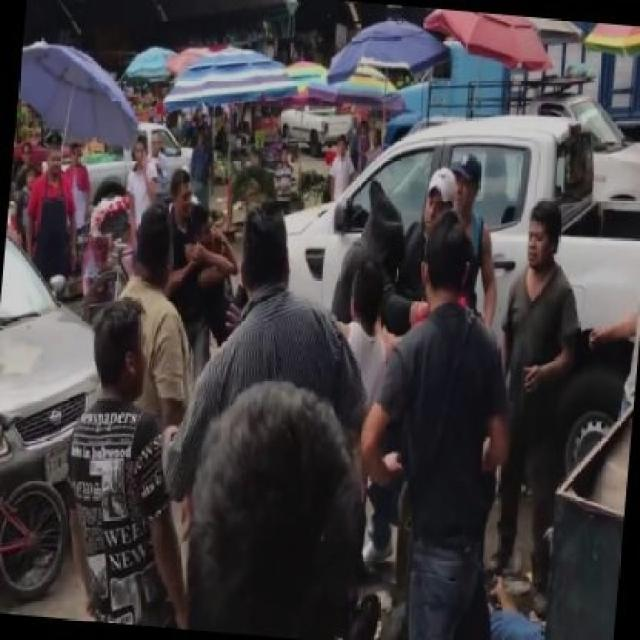non-fight: (356, 208, 528, 638), (158, 202, 370, 526), (54, 278, 200, 631), (485, 192, 583, 580), (129, 164, 210, 369), (20, 140, 76, 292)
